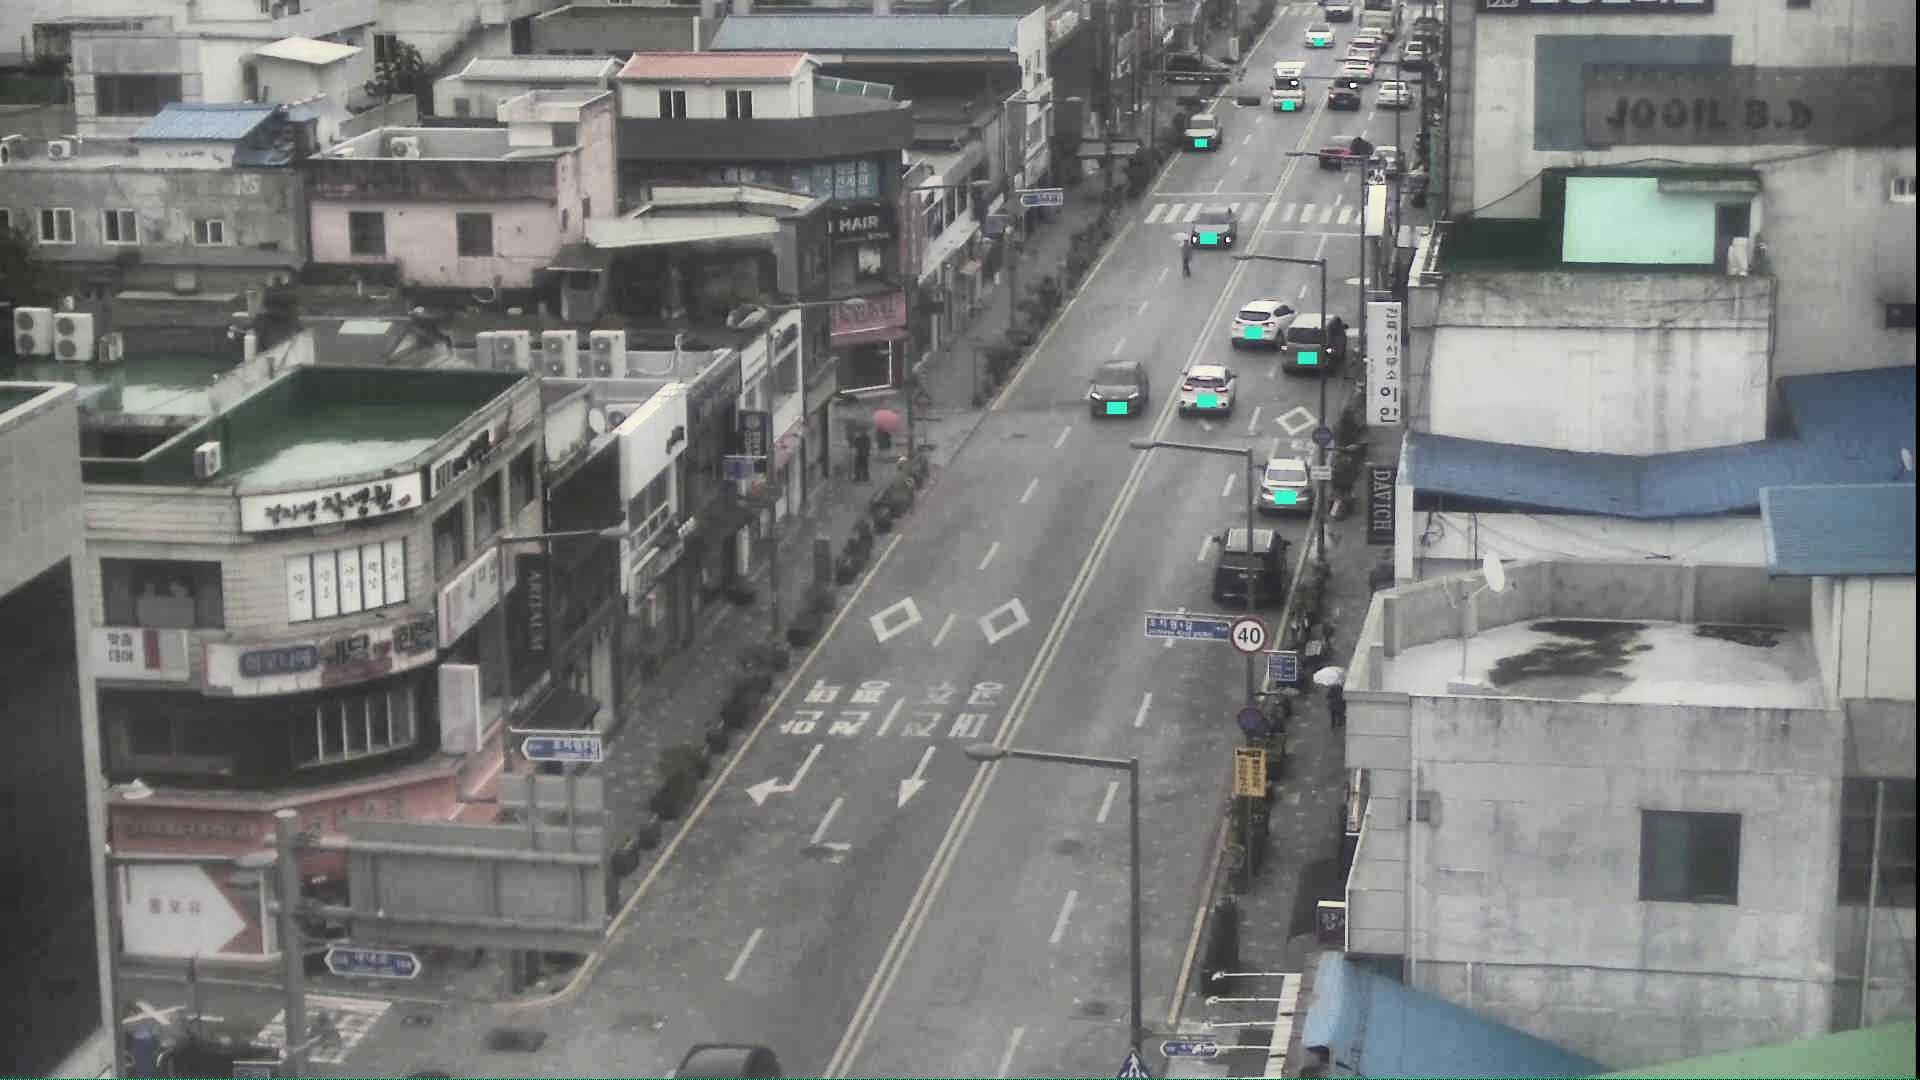sidewalk: (855, 430, 872, 483)
um_jaywalk: (1174, 232, 1193, 281)
um_sidewalk: (1312, 661, 1349, 729), (876, 409, 901, 465)
